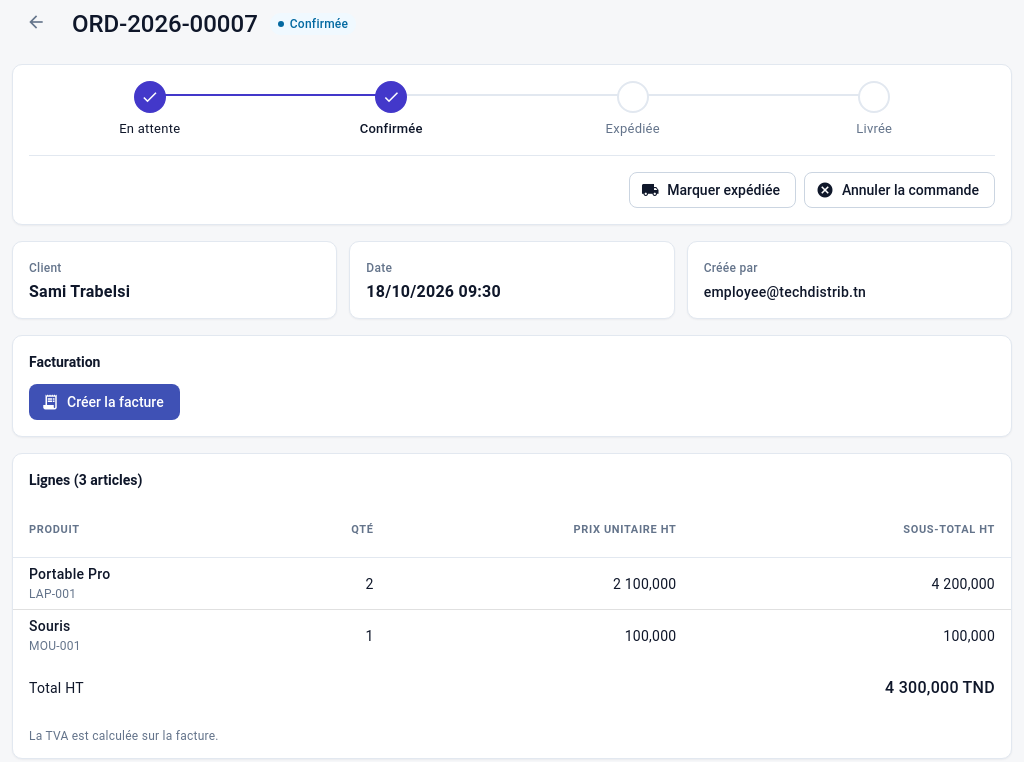
OrderDetailComponent › explains in French why the API refused the move
The width and height of the screenshot is (1024, 762).
Click the button "Annuler la commande" at (900, 190), box [804,172,995,208]
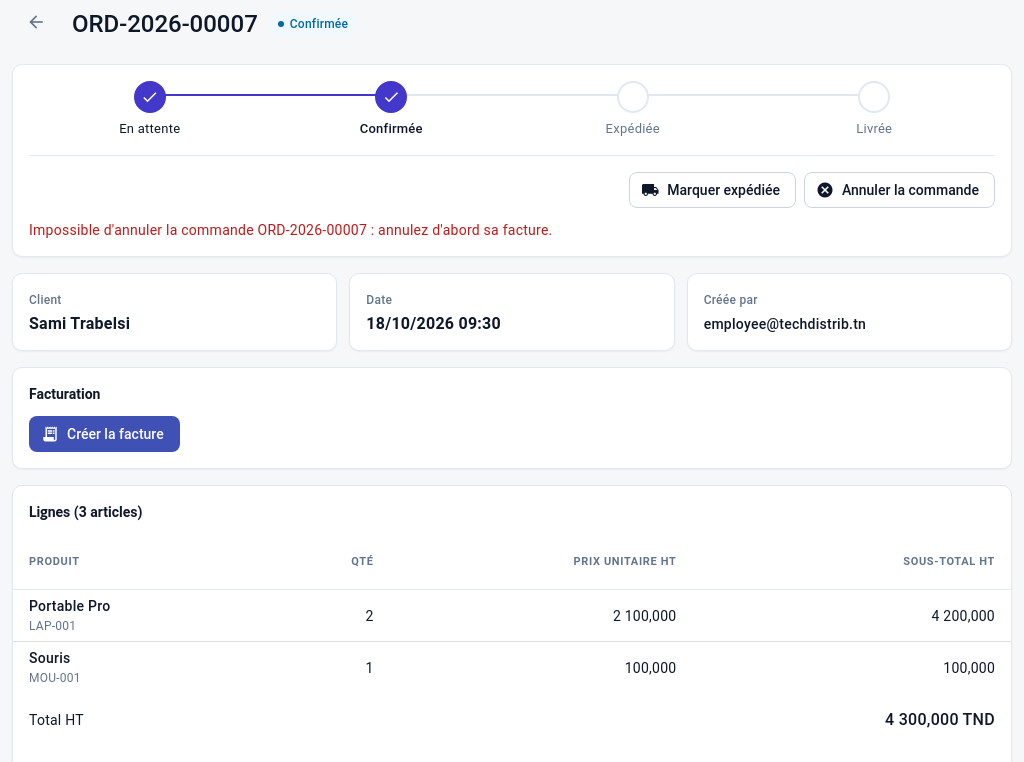
Now the message with class "action-error" reads "Impossible d'annuler la commande ORD-2026-00007 : annulez d'abord sa facture.", box [29,222,552,238]
